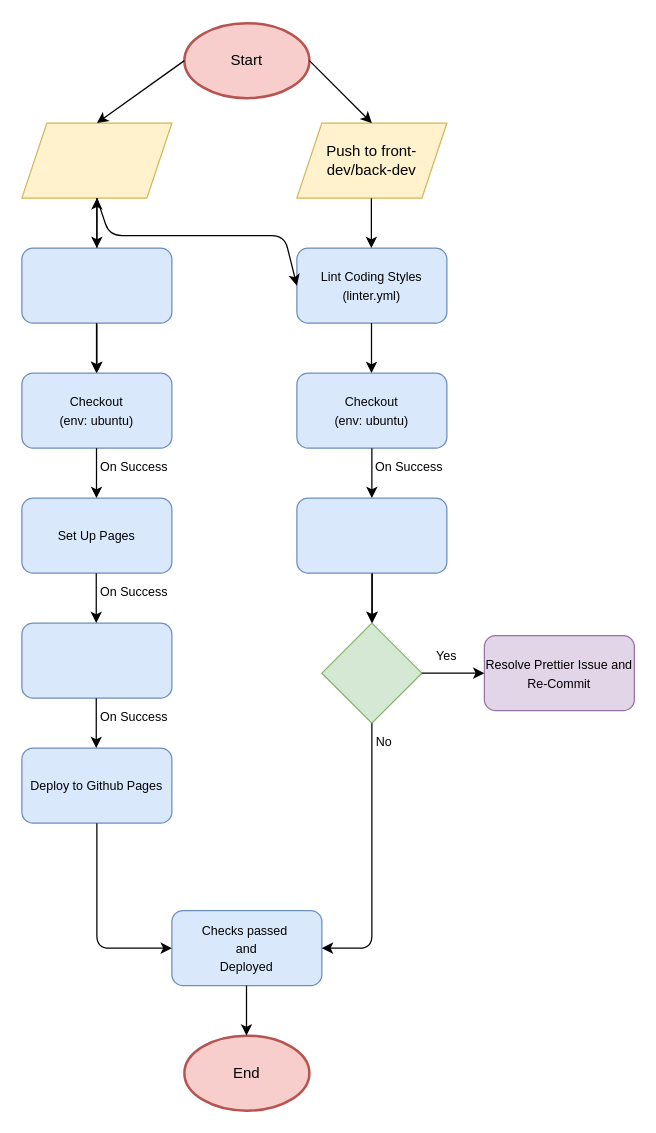
This 656x1133 diagram has some shape labels left out. The box of each missing label's shape, as (x1, y1, x2, y2) in pixels:
Deploy (deploy_to_gh_pages.yml): (21, 247, 172, 323)
Error?: (321, 622, 422, 723)
Prettier Action: (296, 497, 447, 573)
Push to main: (21, 122, 172, 198)
Upload Artifact: (21, 622, 172, 698)
